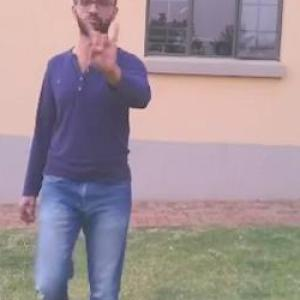takeoff-hand: (74, 10, 126, 85)
